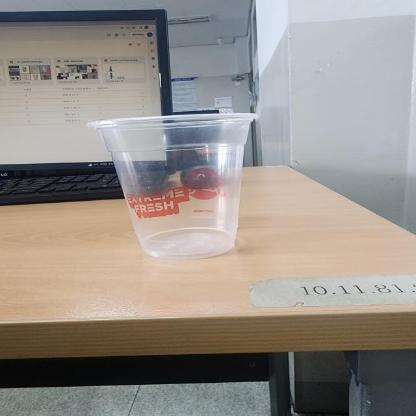Plastic Cup: (90, 112, 262, 262)
